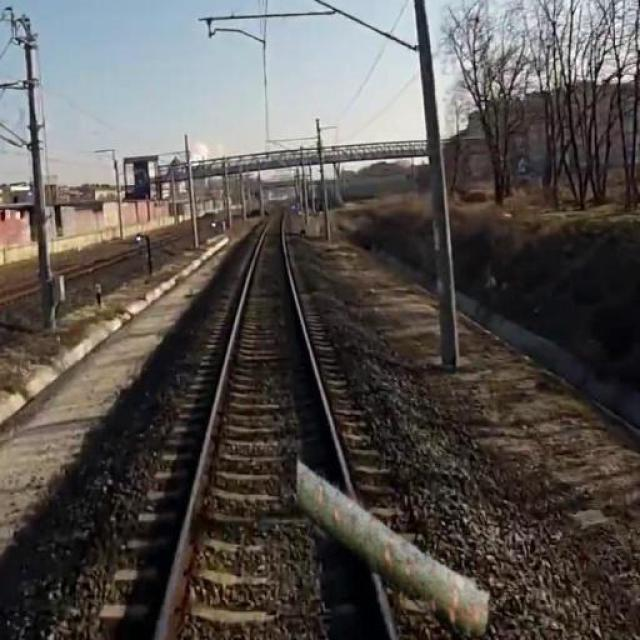Branches: (282, 452, 498, 640)
